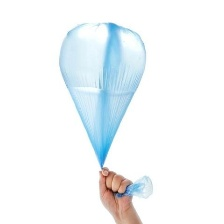plastic_bag: (56, 18, 156, 203)
